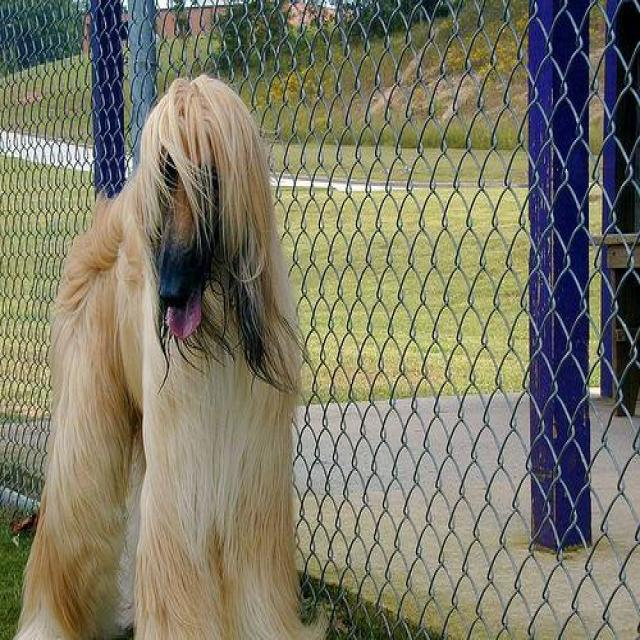afghan_hound: (8, 75, 328, 638)
